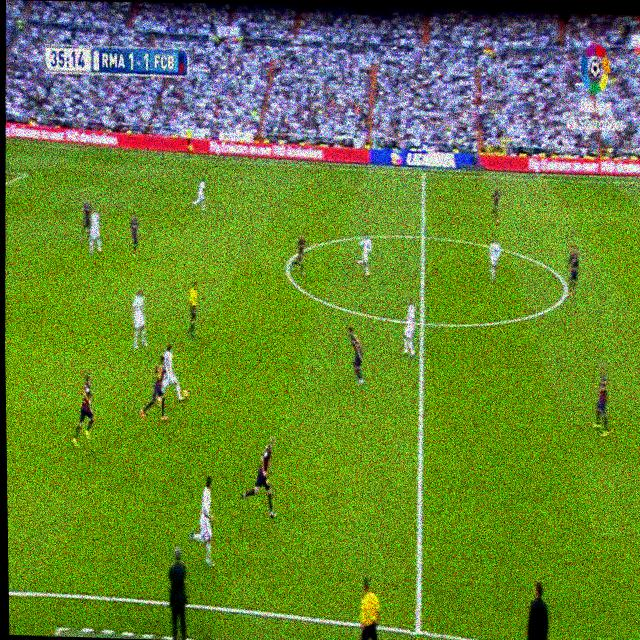halfcircle_bottom: (415, 307, 428, 337)
halfcircle_top: (416, 221, 430, 250)
midline_bottom_intersection: (409, 608, 427, 640)
midline_top_intersection: (418, 167, 428, 182)
